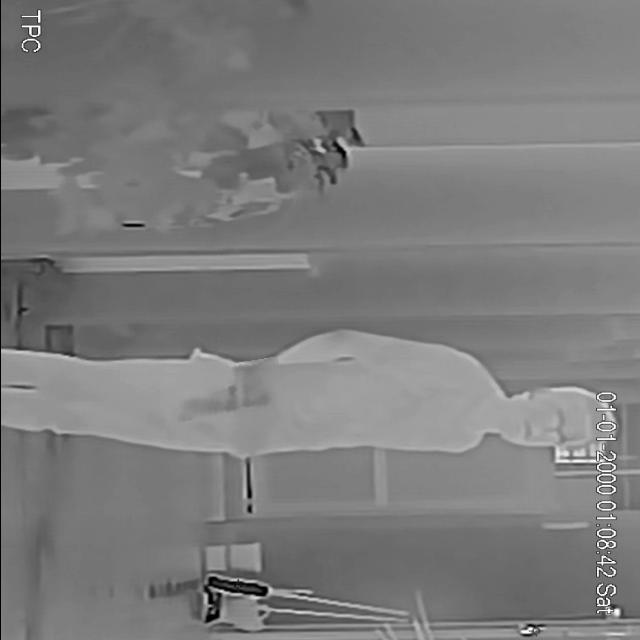Weapon: (159, 361, 285, 436)
